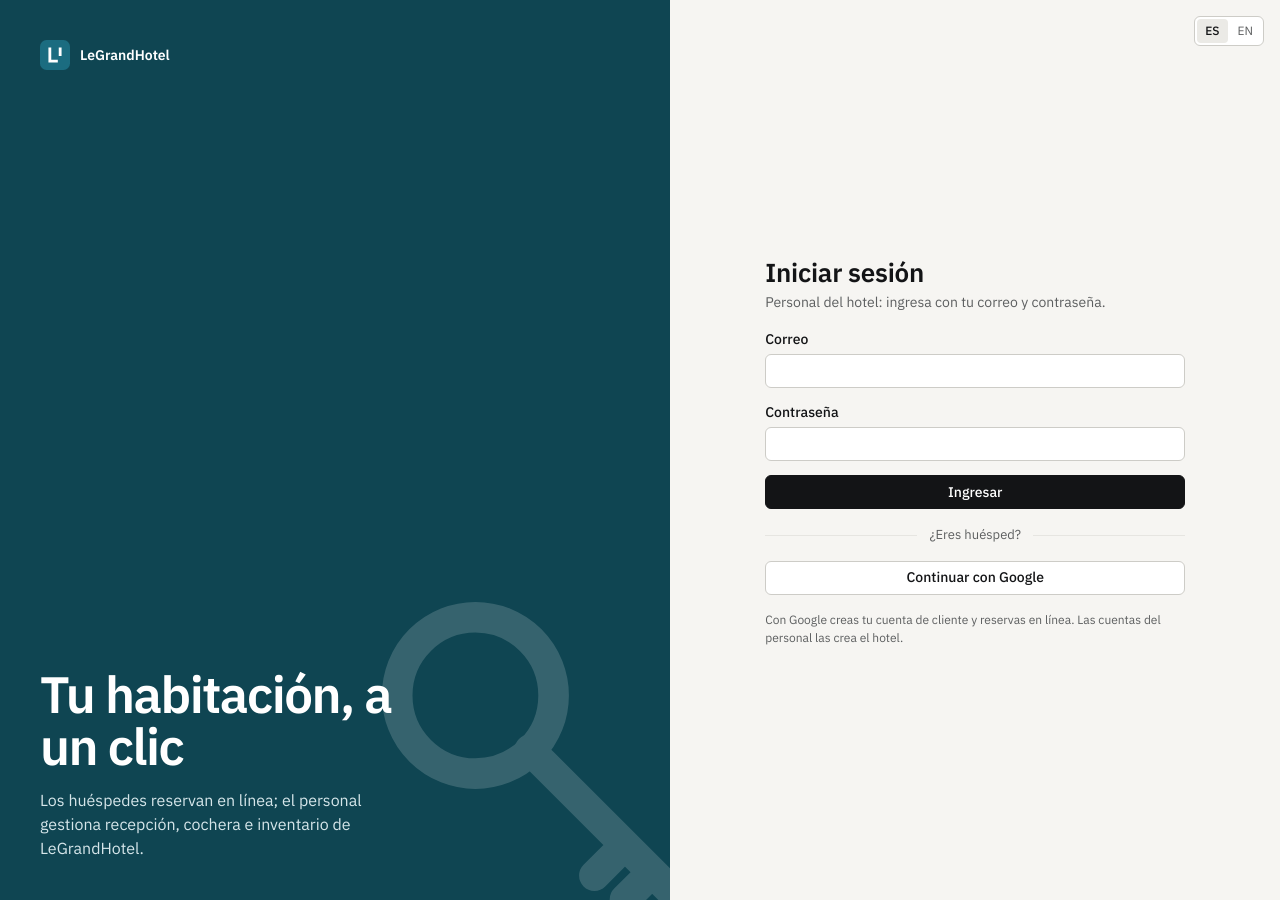
formularios de acceso › muestra el error de credenciales que devuelve la API
Type "a@b.pe" into the field labelled "Correo" at (975, 371), box [765,354,1185,388]
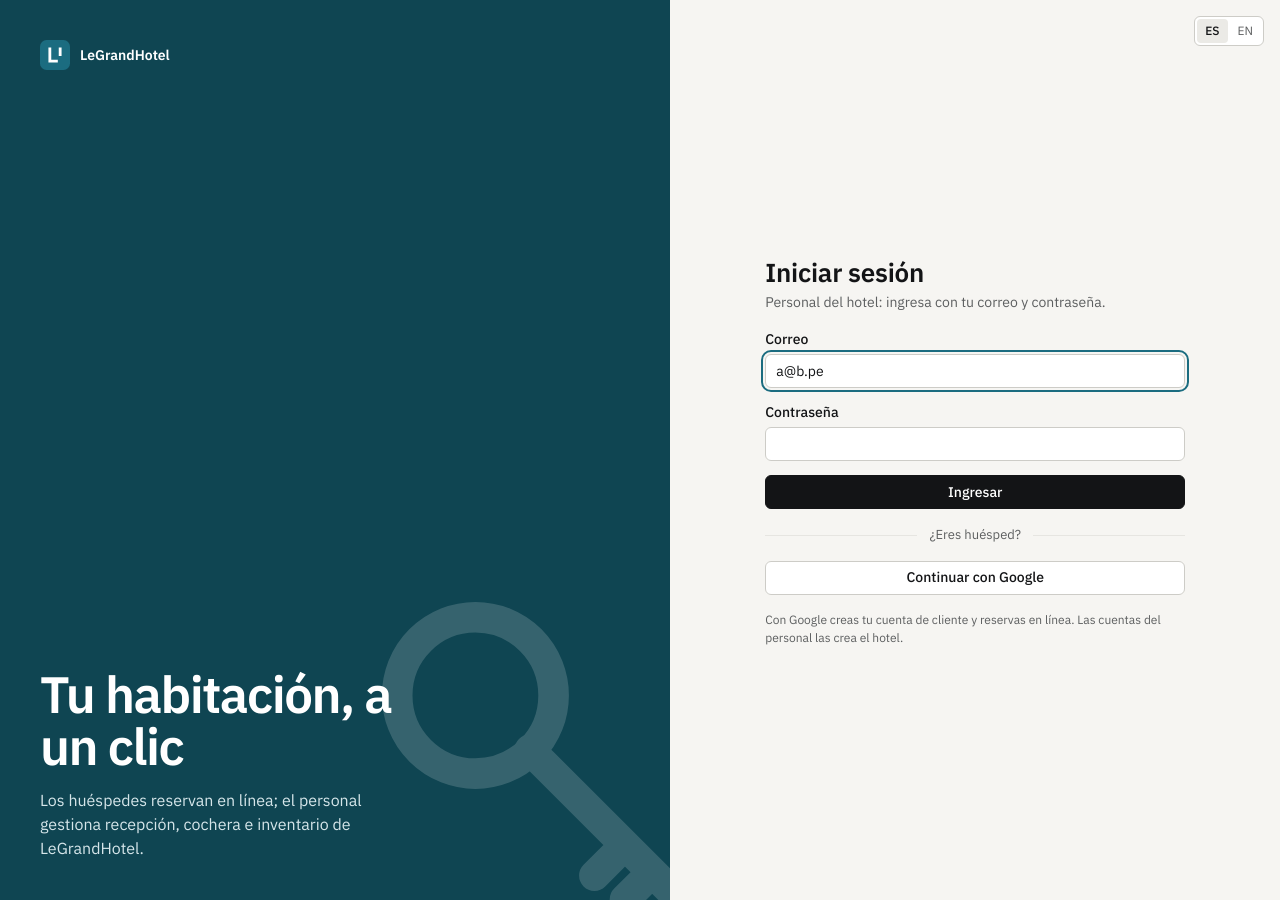
Type "mala" into the password field labelled "Contraseña" at (975, 444), box [765,427,1185,461]
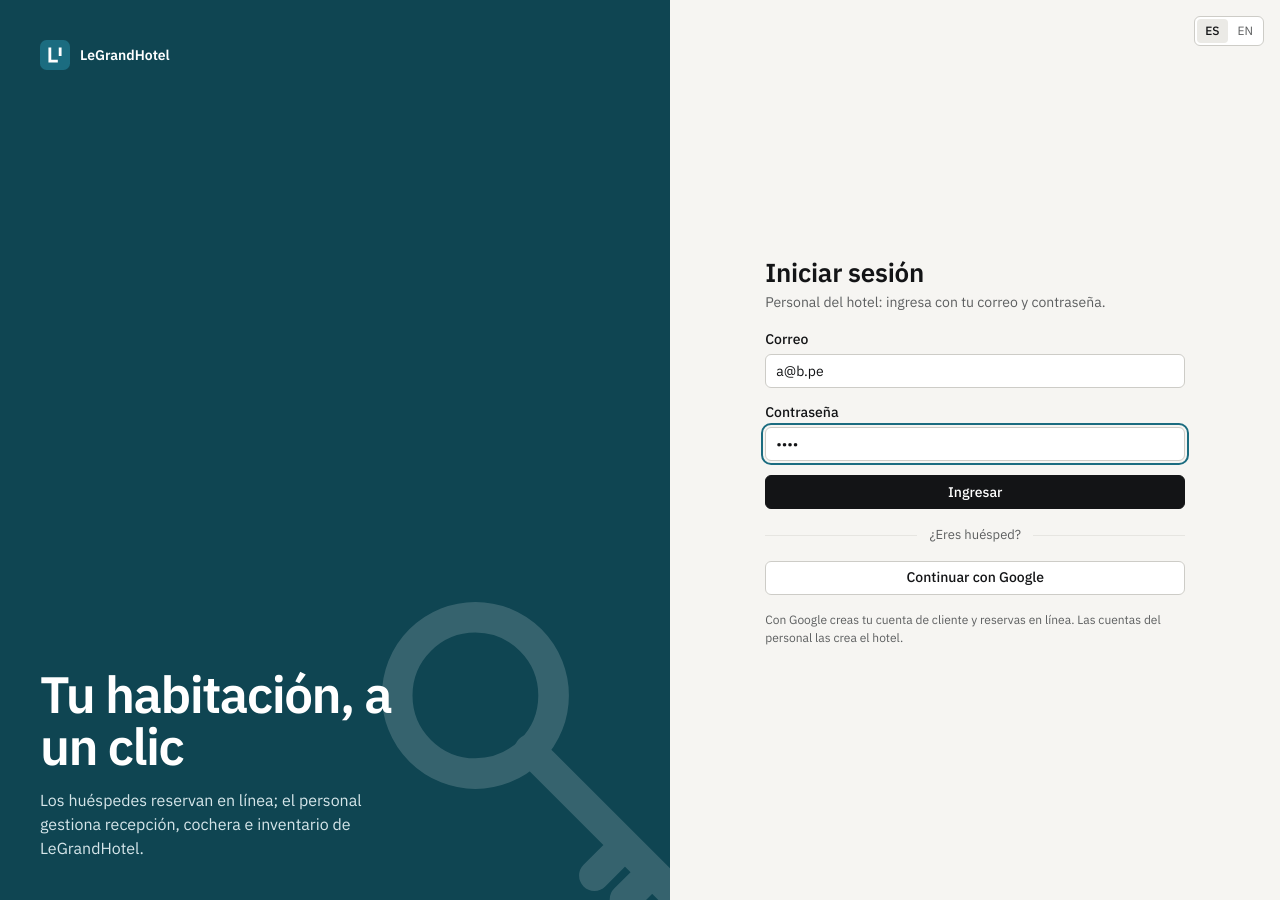
Click the button "Ingresar" at (975, 492), box [765,475,1185,509]
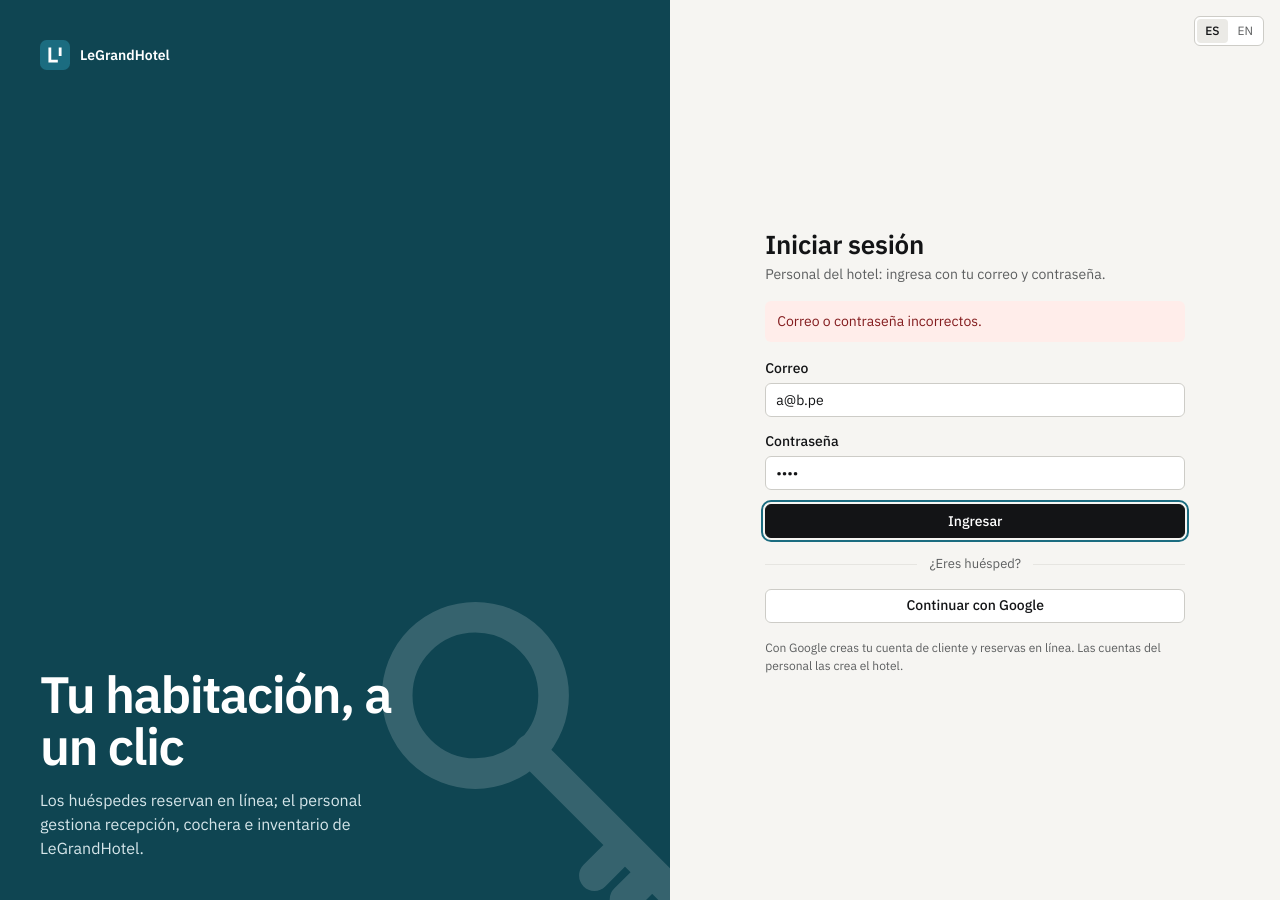
Expected: the message reads "Correo o contraseña incorrectos.", [777,312,982,330]
